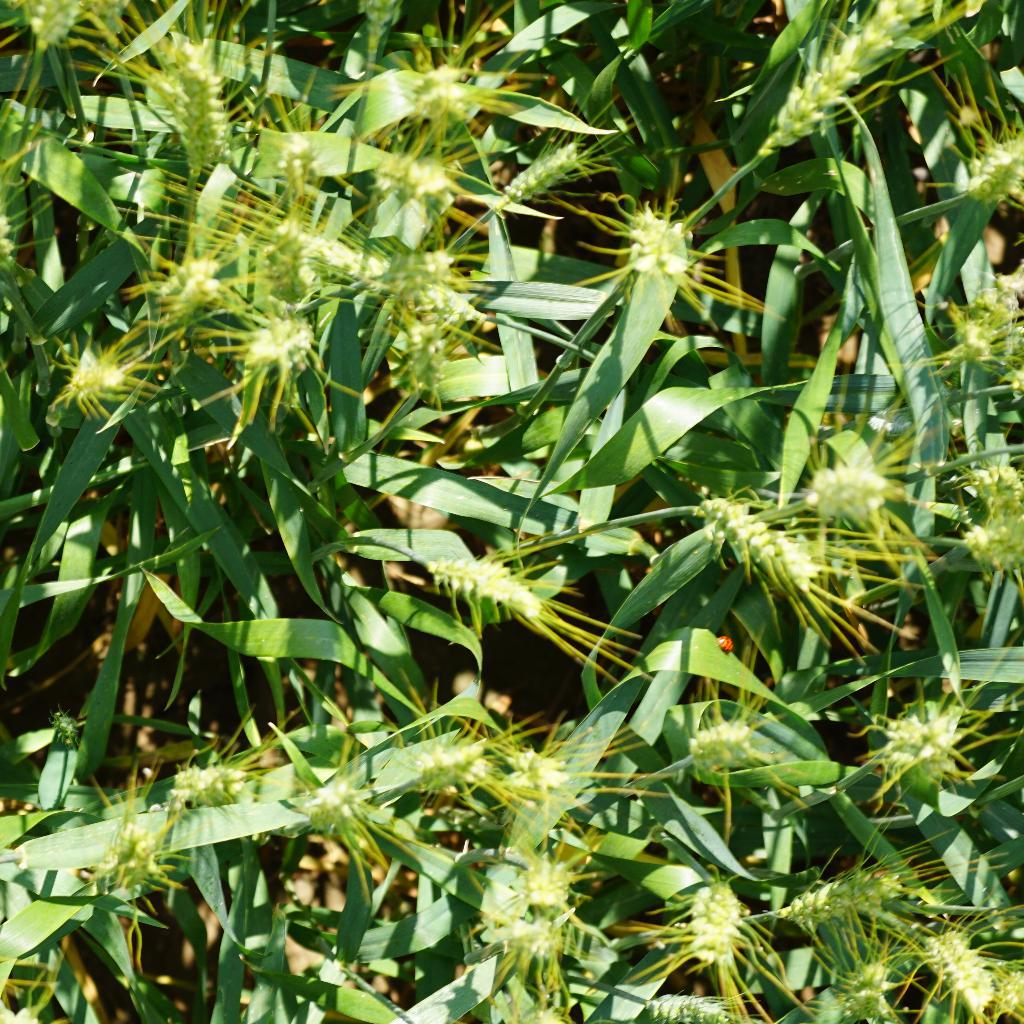0-0: (742, 0, 935, 161), (695, 489, 818, 593), (773, 854, 916, 931), (269, 198, 382, 292), (422, 542, 559, 619), (163, 39, 238, 173), (490, 111, 583, 212), (881, 688, 974, 783), (139, 729, 243, 813), (802, 453, 920, 527), (71, 815, 172, 900), (916, 916, 996, 1016), (496, 894, 583, 985), (950, 285, 1024, 391), (688, 707, 781, 789), (603, 210, 701, 287), (45, 336, 126, 425), (686, 866, 754, 968), (962, 454, 1024, 565), (281, 758, 369, 830), (152, 245, 225, 328), (225, 309, 322, 369), (393, 141, 470, 216), (391, 66, 486, 126), (359, 238, 452, 299), (505, 740, 585, 808), (504, 841, 579, 908), (960, 130, 1024, 208), (639, 982, 757, 1024), (271, 123, 328, 206), (419, 737, 490, 803), (836, 953, 901, 1024), (23, 0, 92, 55), (404, 311, 455, 376), (713, 634, 735, 654)
